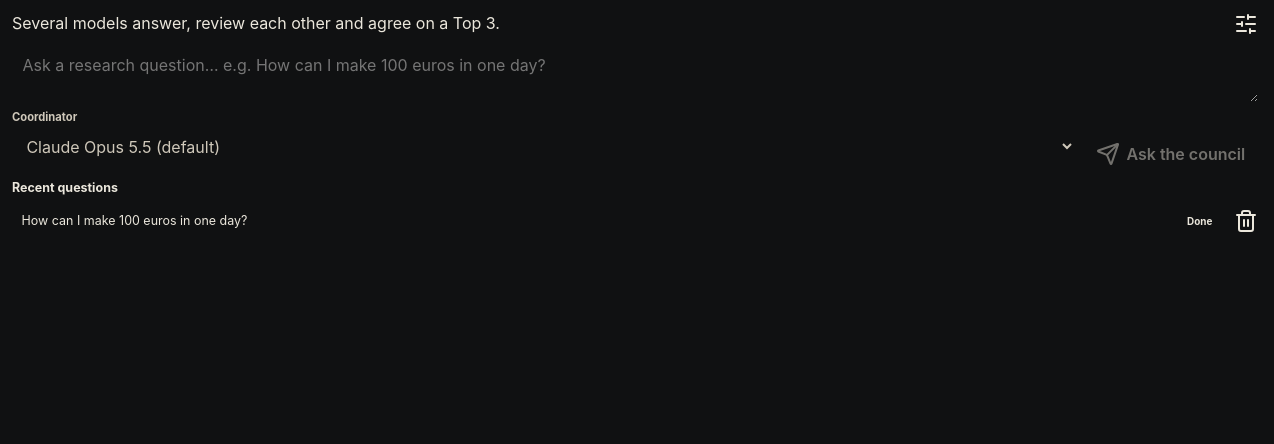
Council dock › shows the agreed Top 3, the final answer and who said what only in Details
Click the button "How can I make 100 euros in one day? Done" at (135, 221), box [12, 199, 1228, 243]
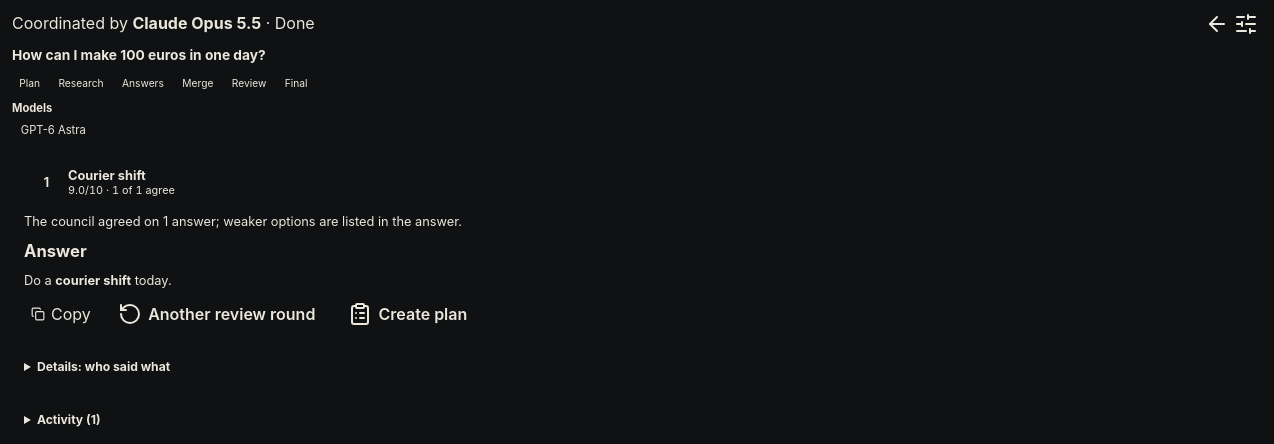
expect the text "Courier shift" is shown: met, box [68, 168, 146, 183]
expect the text "9.0/10 · 1 of 1 agree" is shown: met, box [68, 183, 175, 197]
expect the list item "GPT-6 Astra" is shown: met, box [21, 123, 86, 137]
